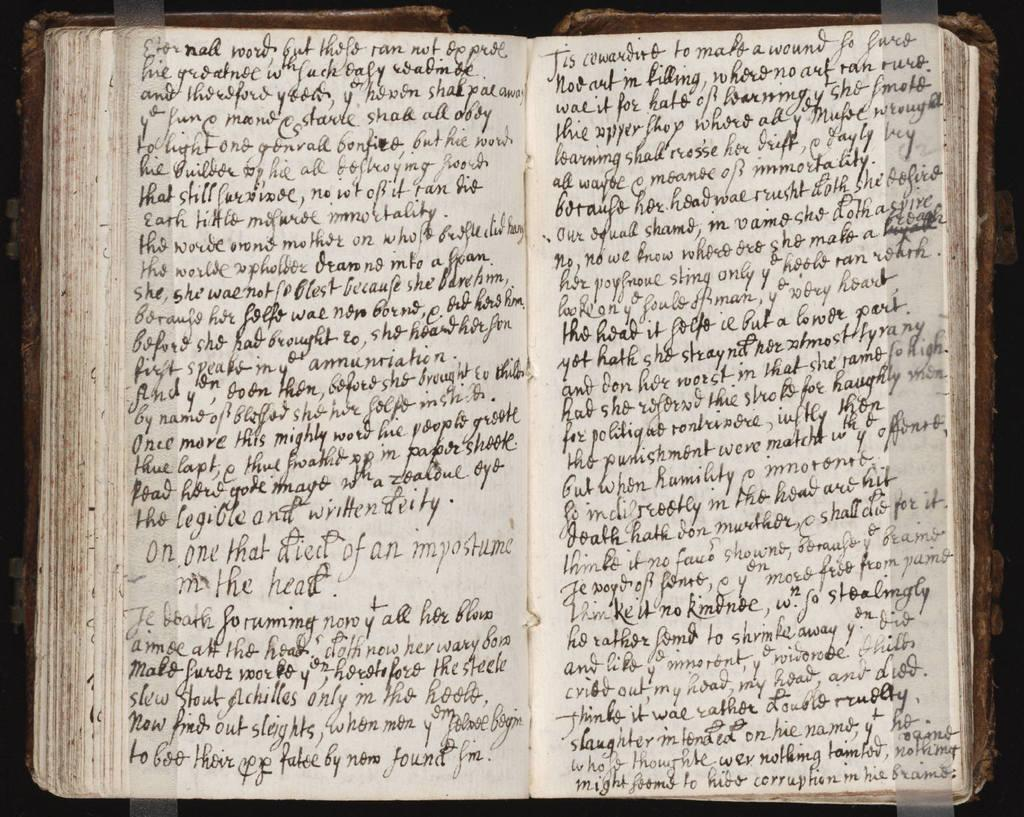book: (19, 5, 1001, 794)
